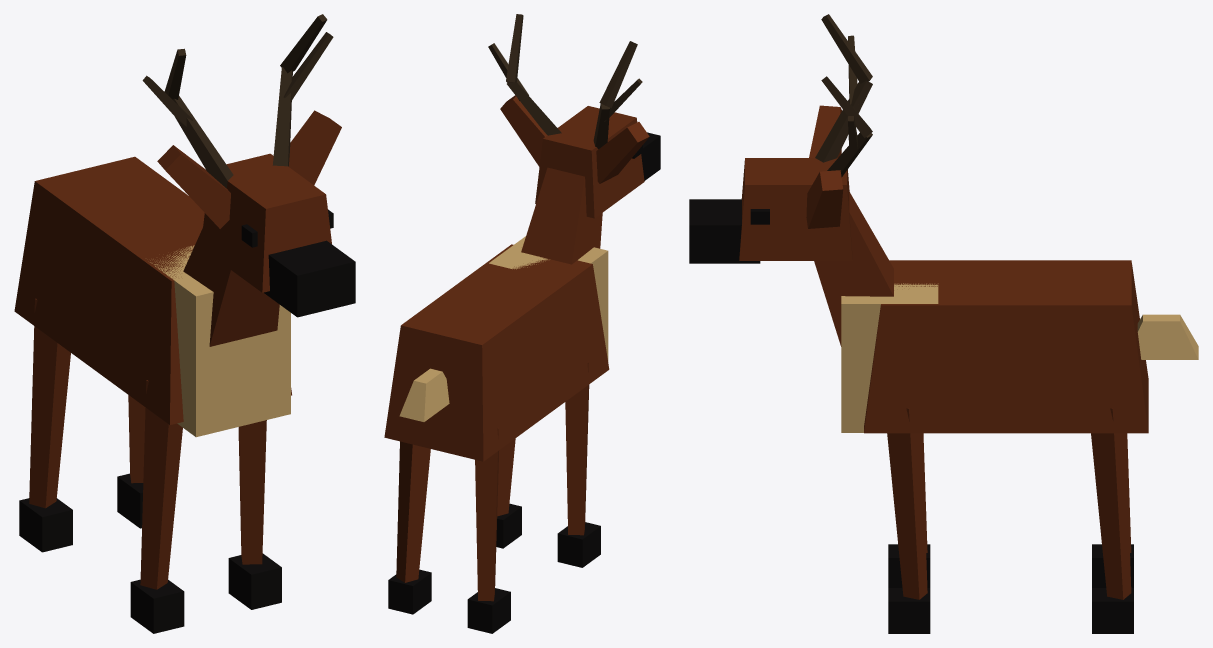
Rendered from deer.glb.
3 renders of one model, left to right at view 1: azimuth 30°, elevation 25°; view 2: azimuth 150°, elevation 25°; view 3: azimuth 270°, elevation 25°, orthographic. The views are drawn at different scales.
Parts seen in each view (by area): view 1: deer; view 2: deer; view 3: deer.
Part boxes in pixels (bbox=[...]): deer: bbox=[14, 14, 355, 633]; deer: bbox=[384, 14, 660, 633]; deer: bbox=[689, 14, 1198, 633].
Size of the model in its own units: 0.6153 by 1.91 by 1.57.
1 material, 1 textured.
